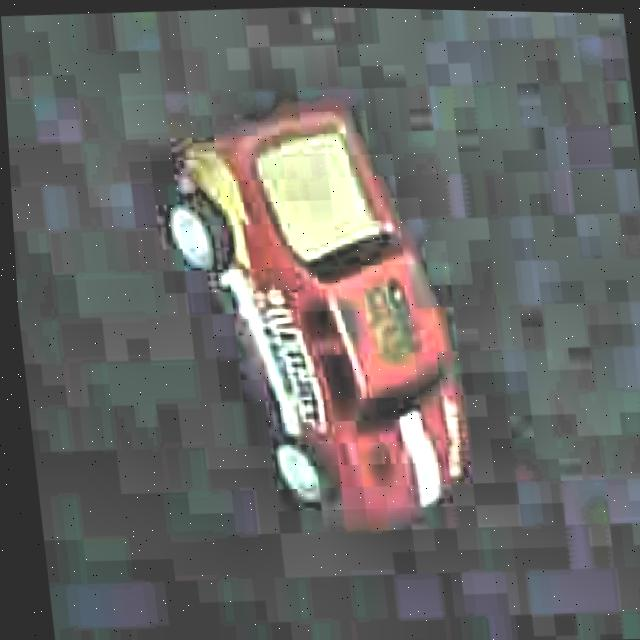car: (139, 90, 486, 543)
